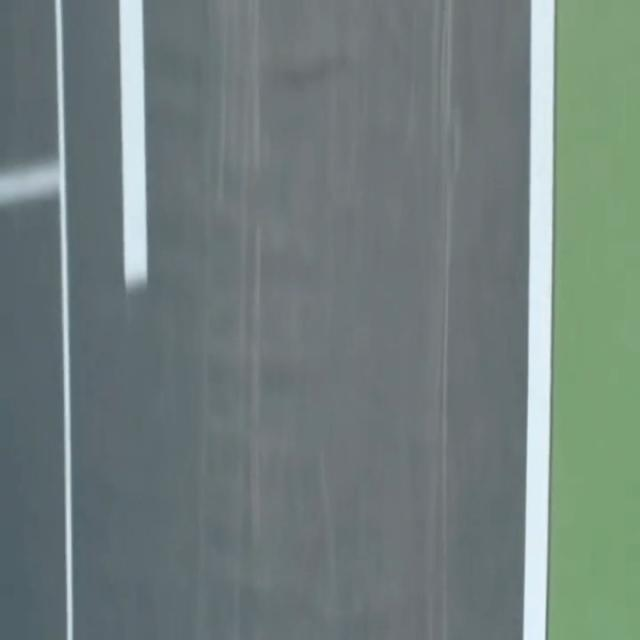center: (119, 0, 147, 291)
right: (523, 0, 554, 639)
